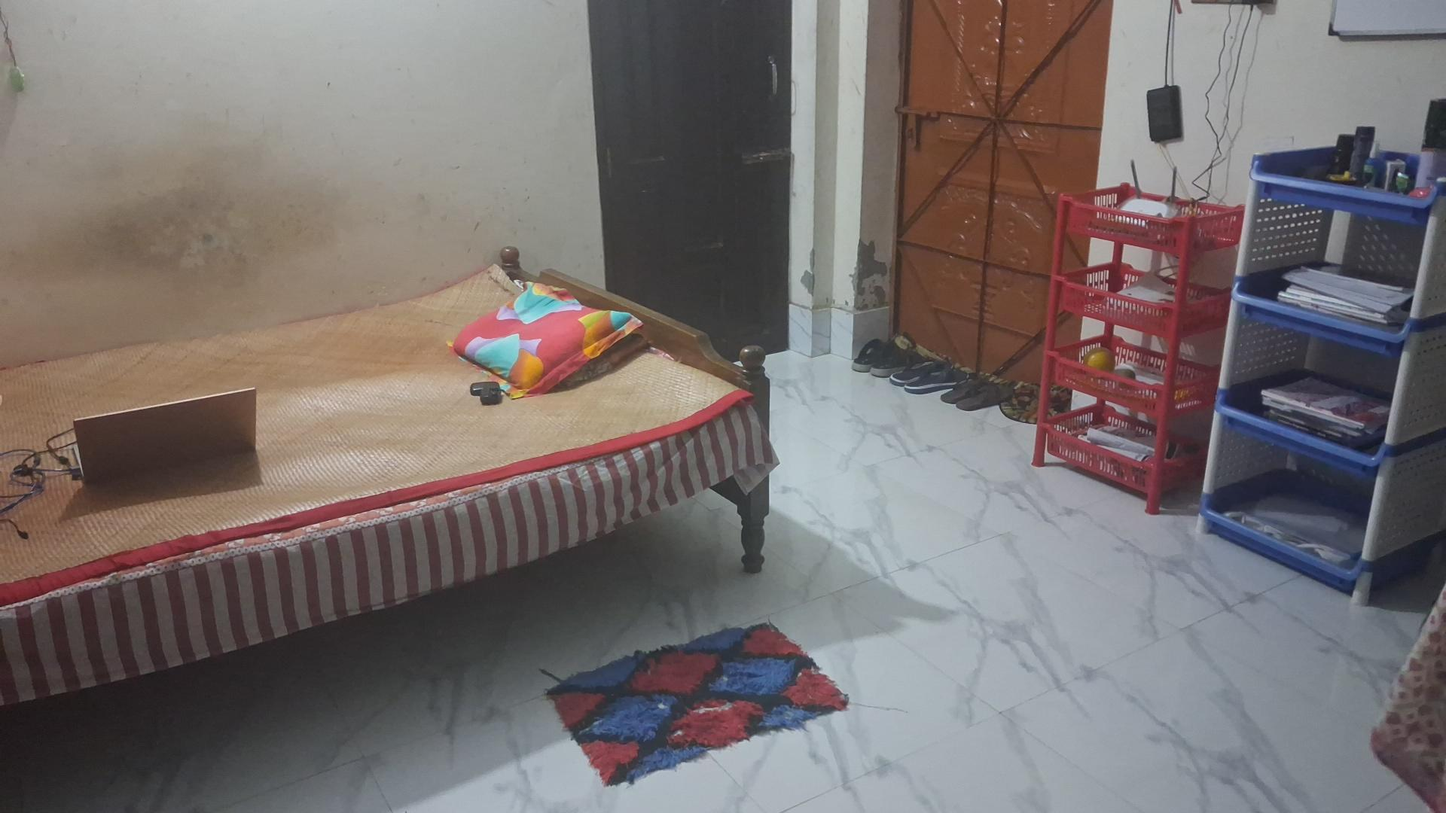Door: (577, 0, 813, 372), (897, 2, 1105, 416)
Floor Mat: (528, 629, 876, 783)
Footwear: (886, 353, 969, 397), (851, 338, 916, 377), (946, 372, 1006, 414)
Laptop: (57, 385, 285, 485)
Pillow: (431, 282, 654, 398)
Rack: (1195, 134, 1446, 598), (1028, 166, 1245, 518)
